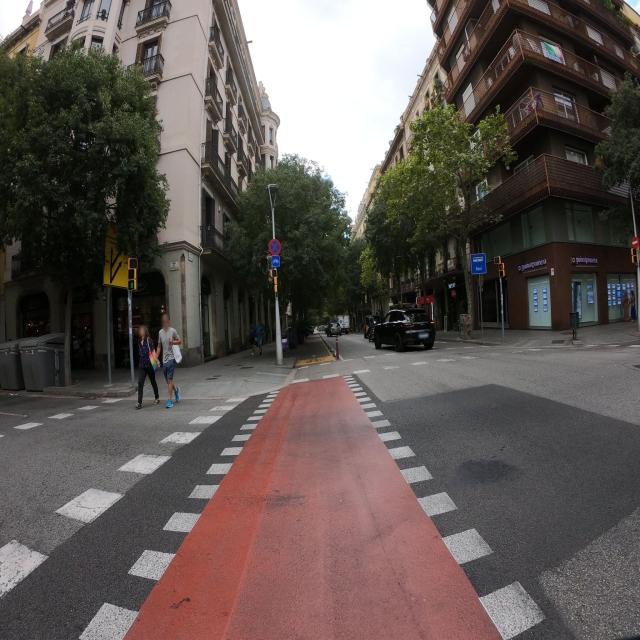car: (374, 304, 436, 352), (364, 314, 382, 340), (326, 320, 341, 338)
